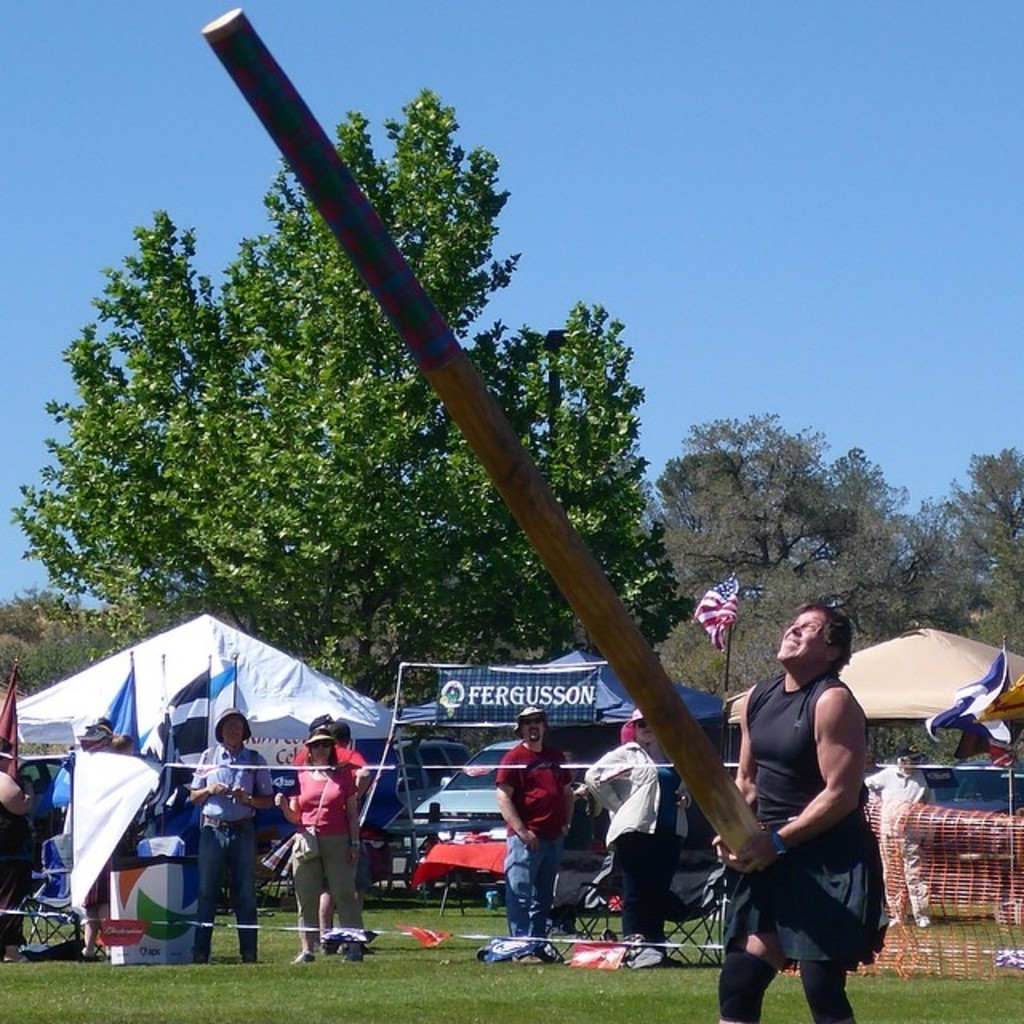Tree: (4, 84, 708, 716), (672, 414, 926, 608), (875, 436, 1022, 635), (644, 432, 771, 592), (649, 595, 812, 702), (755, 475, 849, 592), (961, 545, 1022, 696), (0, 630, 145, 691)
